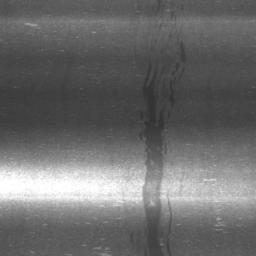Iron scale compression: (144, 62, 165, 256), (169, 81, 174, 103), (181, 43, 186, 63), (157, 0, 161, 12)
